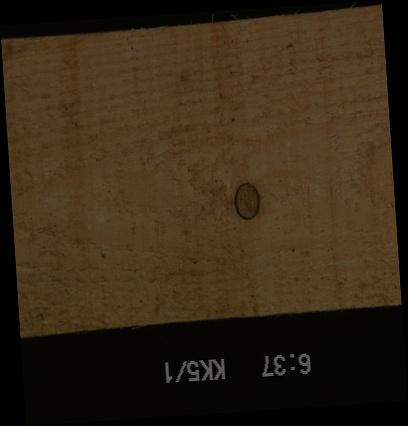dry_knot: (232, 181, 261, 220)
